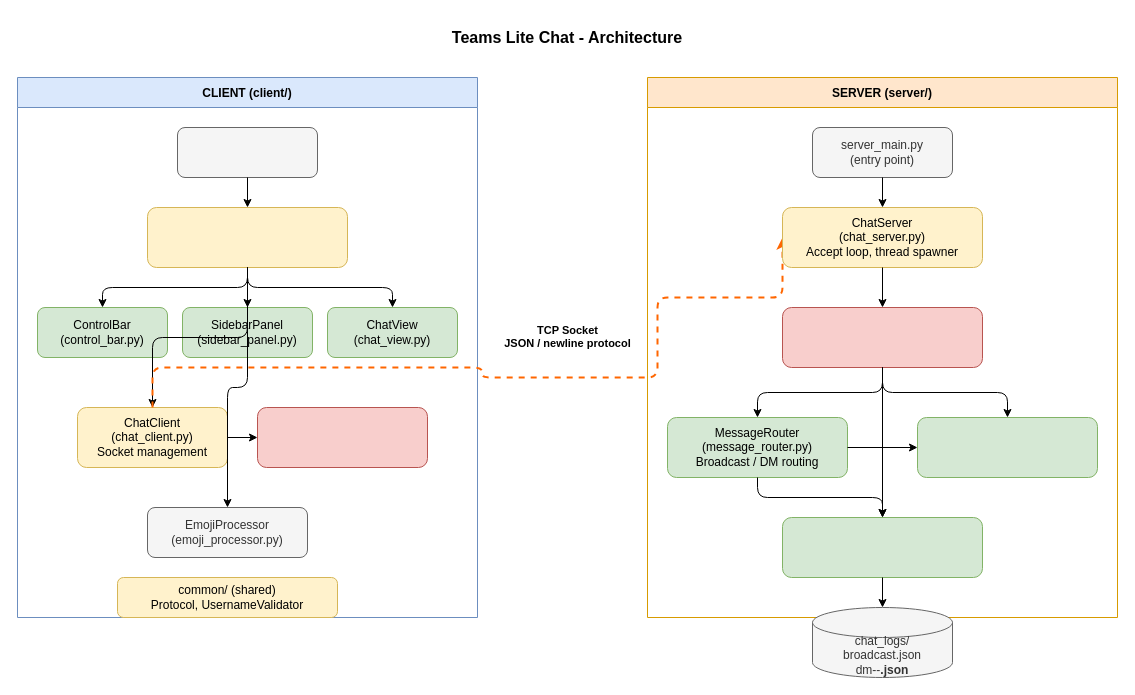
The diagram is 1135 pixels wide and 695 high, and some of its shapes have lost their labels. Each missing label, with the box of its shape:
AppGui (app_gui.py) Main window orchestrator: (146, 206, 348, 268)
ChatLogger (chat_logger.py) JSON log read/write: (782, 516, 982, 578)
client_main.py (entry point): (176, 126, 318, 178)
ClientHandler (client_handler.py) Per-client thread (1..N): (782, 306, 982, 368)
NetworkReceiver (network_receiver.py) Background reader thread: (256, 406, 428, 468)
UserRegistry (user_registry.py) Thread-safe user map: (916, 416, 1098, 478)
